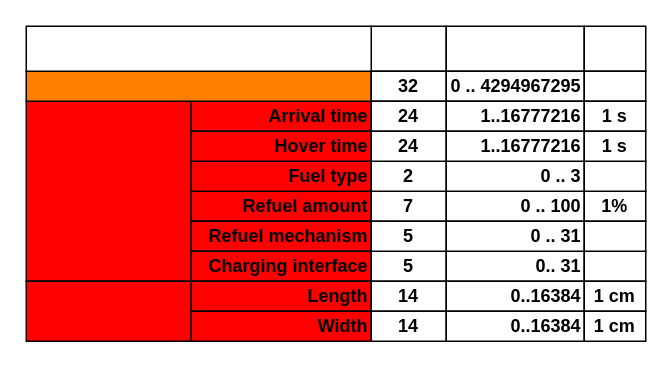
This 672x368 diagram has some shape labels left out. Here are the shapes that lost their labels. From the top down, the centre of each, then its label:
At point (198, 48): "Refuel container fields".
At point (408, 48): "Bit width".
At point (514, 48): "Range".
At point (614, 48): "Unit".
At point (198, 85): "Destination station ID".
At point (108, 190): "Refuel requirement".
At point (108, 310): "Landing pad size requirement".
